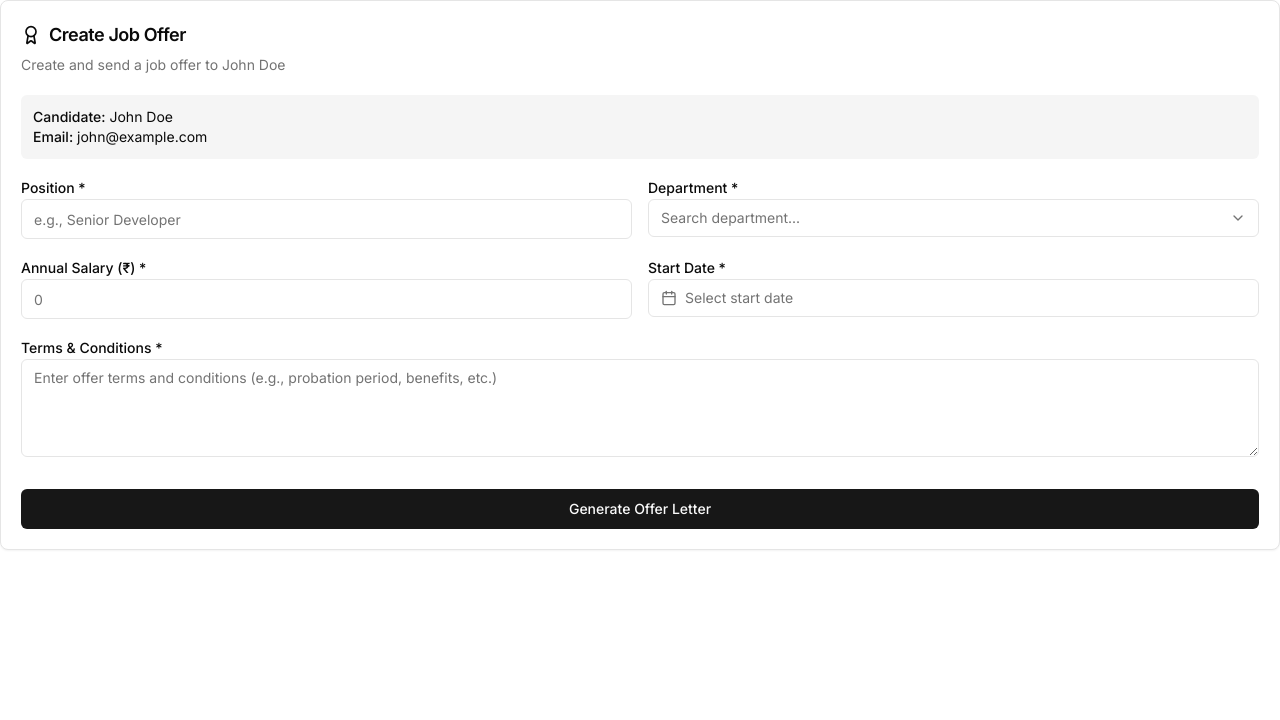
Test case: JobOfferForm › validates required fields before submission
Click the button "Generate Offer Letter". click: (640, 509)
box: [21,489,1259,529]
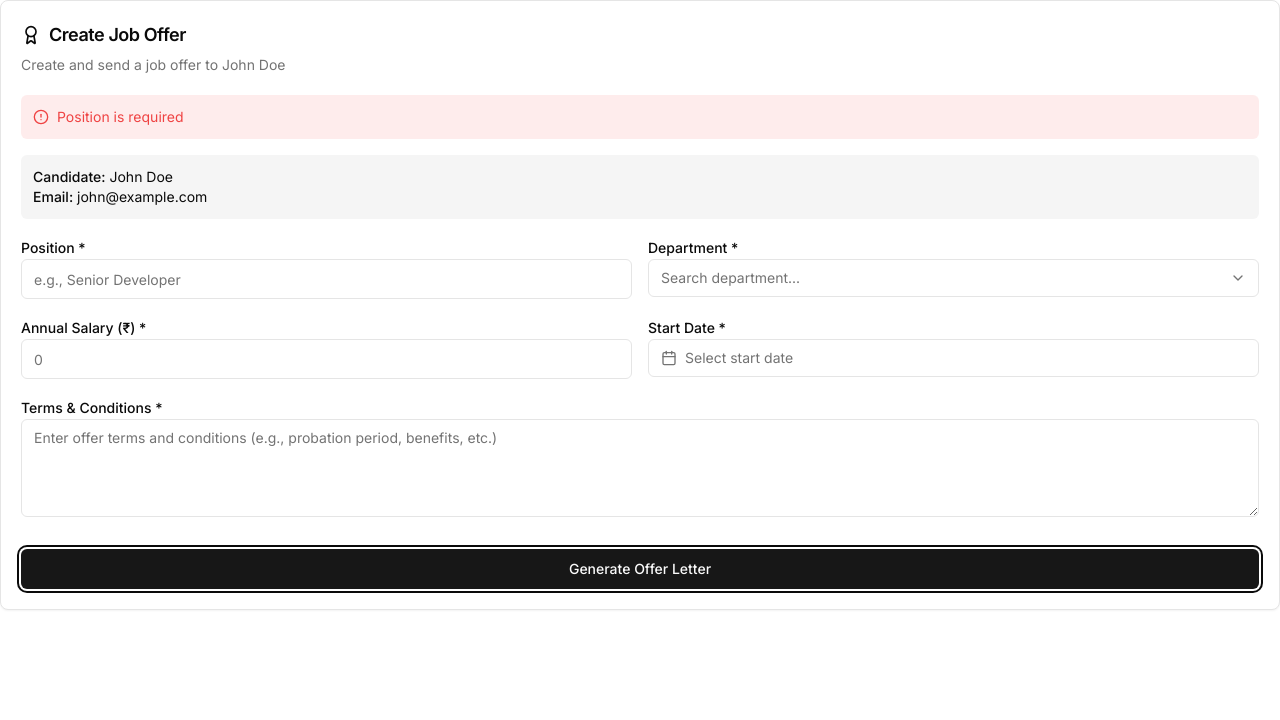
Result: the text "Position is required" is shown at [57,107,184,127]
